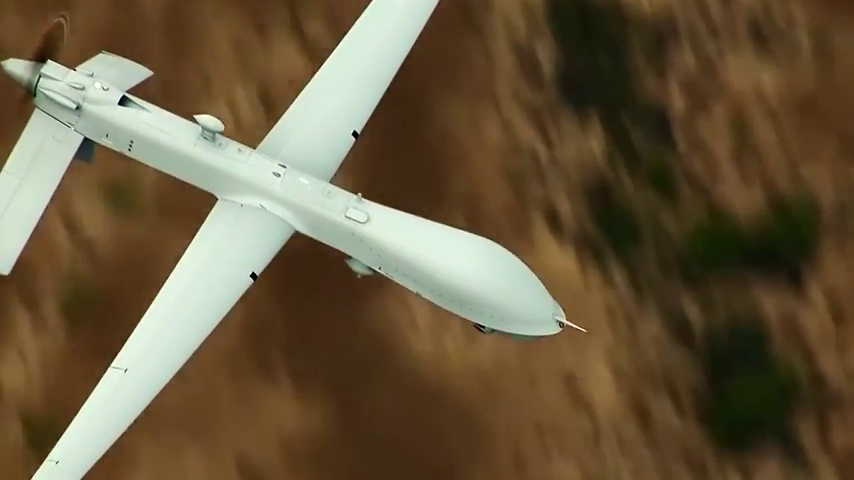military drone: (0, 0, 587, 480)
